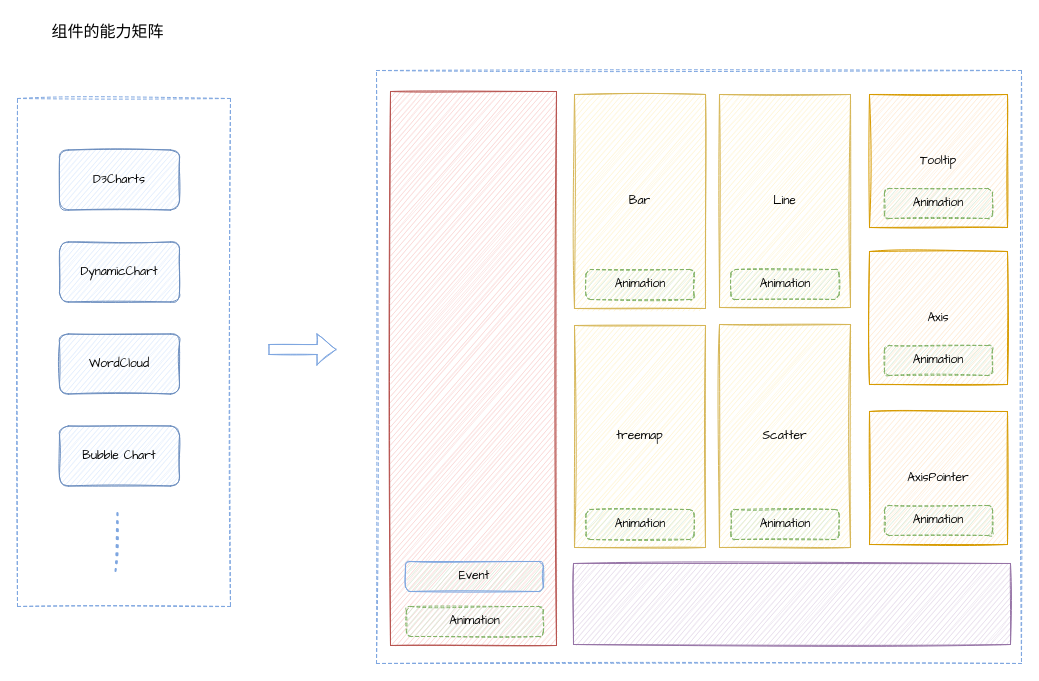
The diagram is 1039 pixels wide and 681 high, and some of its shapes have lost their labels. Each missing label, with the box of its shape:
Core: (390, 90, 556, 646)
Renderer: (572, 562, 1010, 644)
